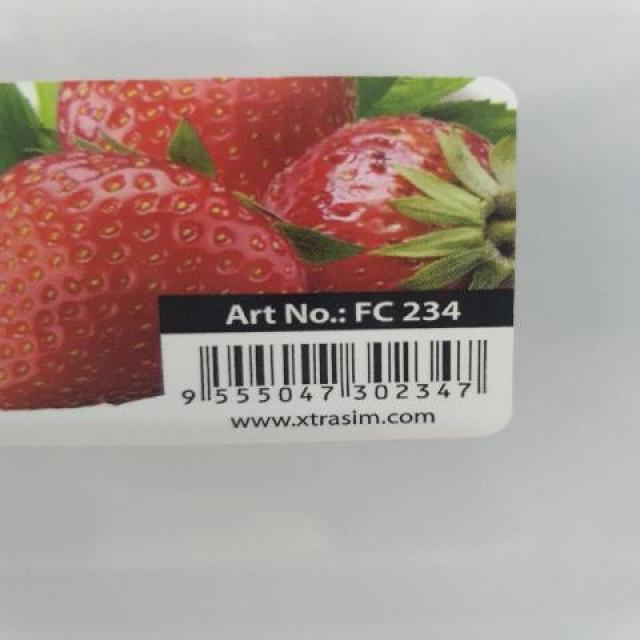Barcode: (172, 331, 508, 436)
